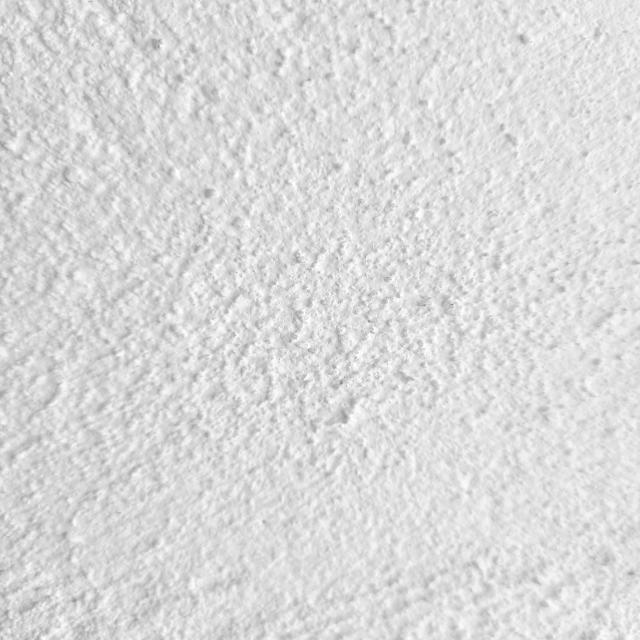rough and patchy surface: (2, 1, 634, 639)
